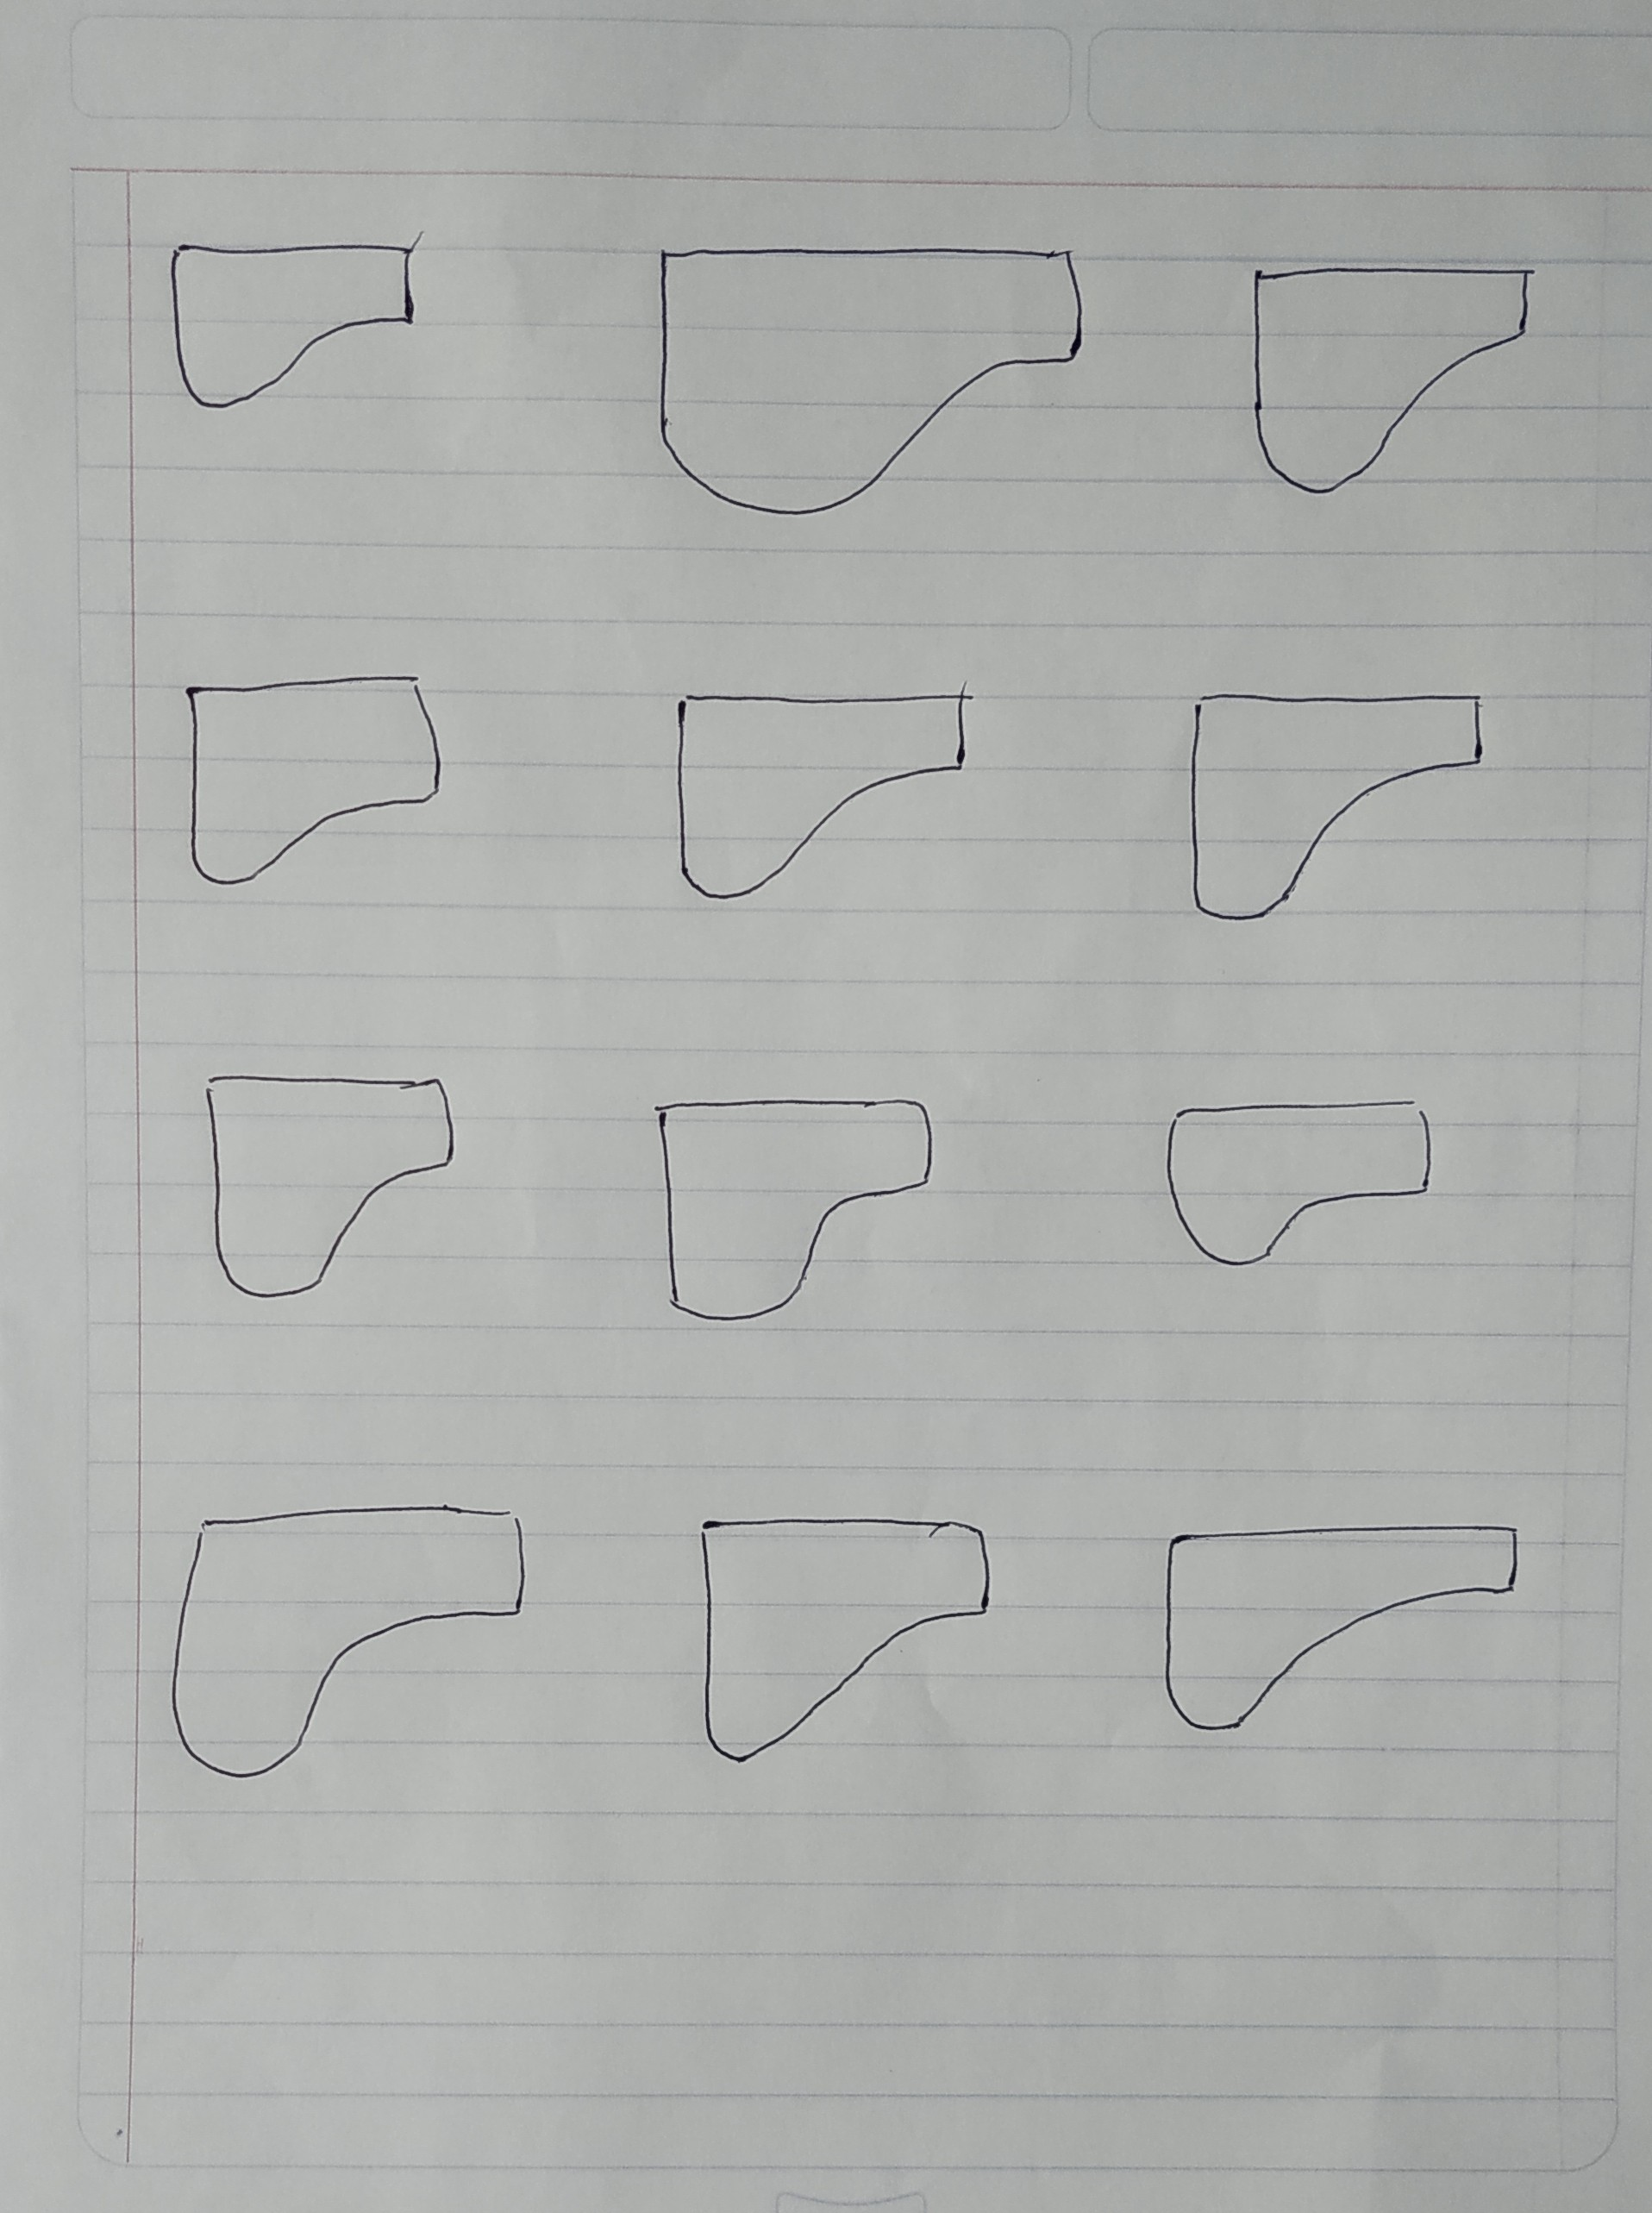print: (642, 229, 1095, 528), (160, 1484, 540, 1791), (1171, 661, 1494, 937), (1149, 1507, 1524, 1739), (1232, 240, 1548, 512), (689, 1493, 1001, 1767), (640, 1073, 958, 1328), (654, 668, 979, 906), (189, 1052, 479, 1288), (174, 658, 455, 892), (1159, 1080, 1445, 1281), (160, 229, 422, 422)
